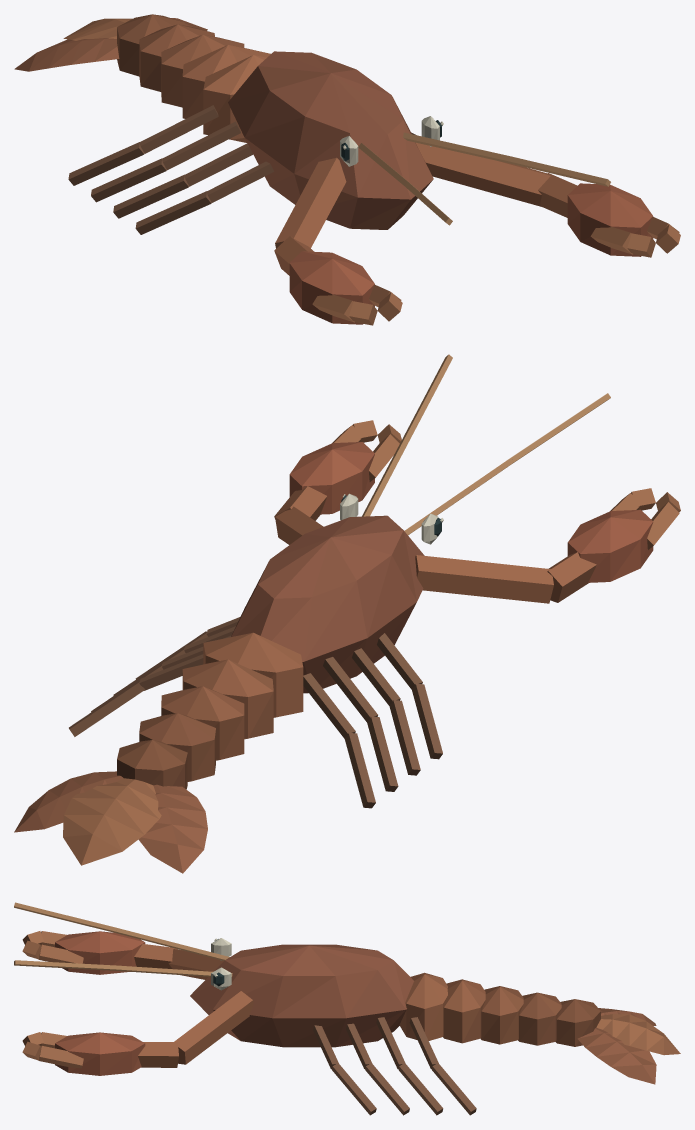
Rendered from crayfish.glb.
The picture shows the model from 3 angles, top to bottom: view 1: azimuth 30°, elevation 25°; view 2: azimuth 150°, elevation 25°; view 3: azimuth 270°, elevation 25°; orthographic projection. The views are drawn at different scales.
Visible parts, largest first — view 1: shell; view 2: shell; view 3: shell.
Part boxes in pixels (x1=…): shell: x1=14, y1=14, x2=680, y2=325; shell: x1=14, y1=354, x2=680, y2=873; shell: x1=14, y1=902, x2=680, y2=1115.
Bounding box in the file's own units: 0.344 × 0.168 × 0.7808.
